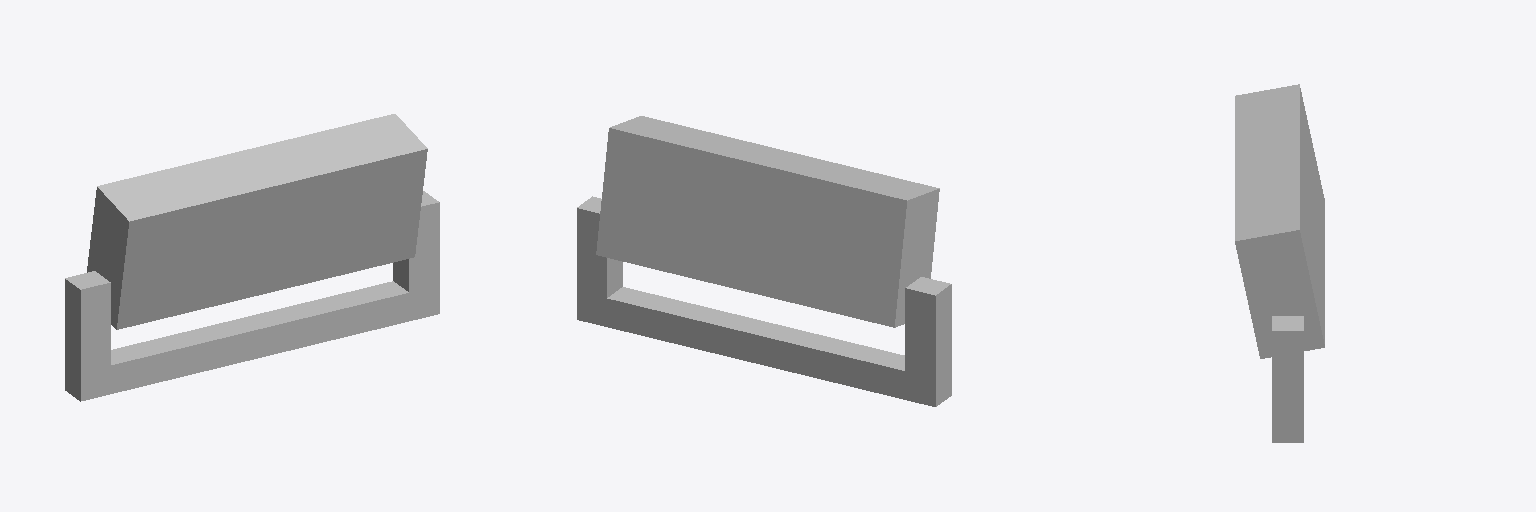
File: sotm_worklight.obj
3 views of the same model, side by side, from view 1: azimuth 30°, elevation 25°; view 2: azimuth 150°, elevation 25°; view 3: azimuth 270°, elevation 25° (orthographic).
Parts seen in each view (by area): view 1: Worklight; view 2: Worklight; view 3: Worklight.
Part boxes in pixels (bbox=[...]): Worklight: bbox=[65, 114, 439, 401]; Worklight: bbox=[577, 116, 951, 406]; Worklight: bbox=[1235, 84, 1324, 442].
Size of the model in its own units: 0.391 by 0.2059 by 0.0855.